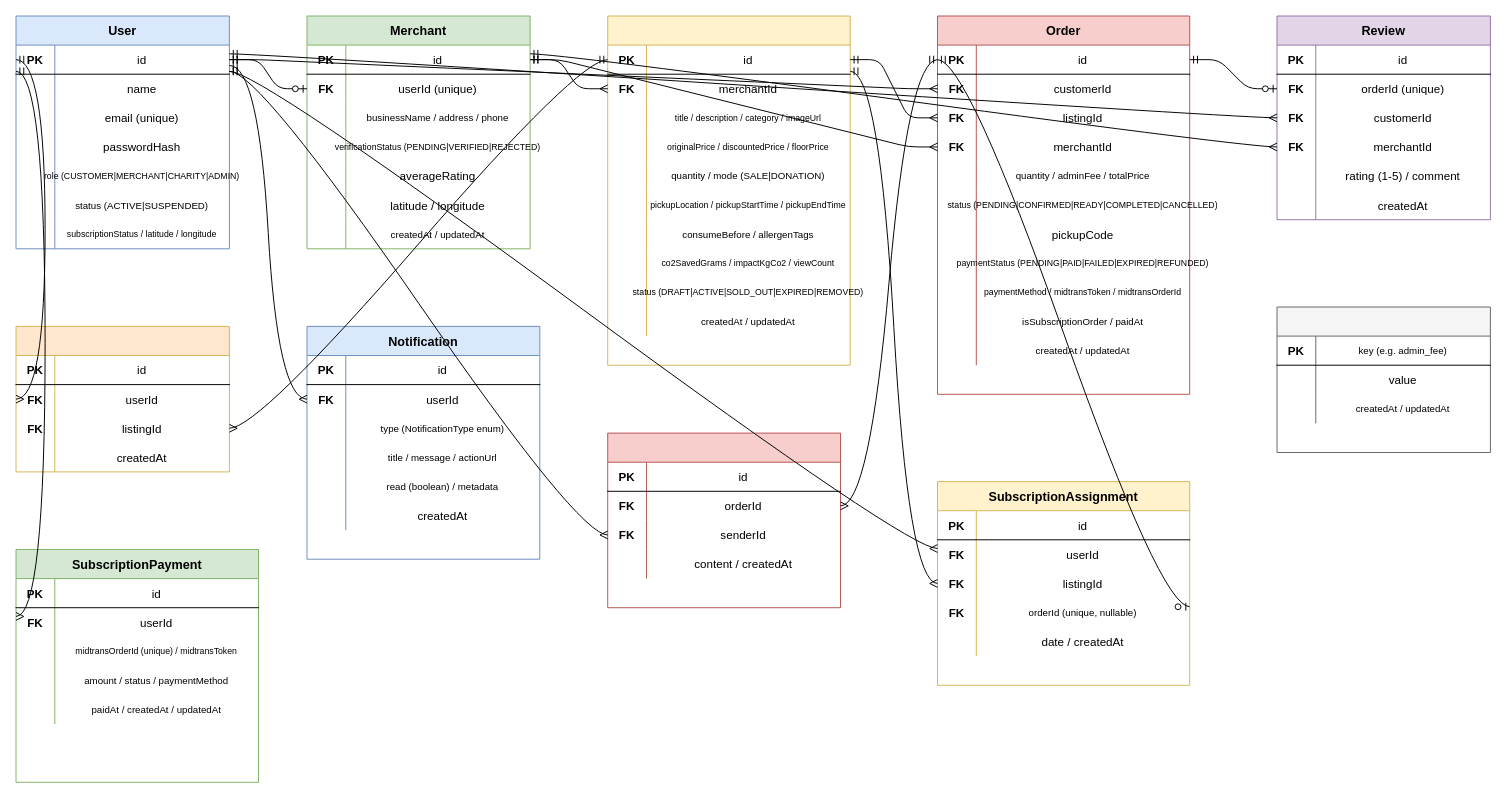
Image size: 1506x798. Some labels were removed from this diagram. Each missing label, with the box of its shape:
AppSetting: (1276, 306, 1490, 453)
FoodListing: (607, 15, 850, 365)
Message: (607, 432, 841, 608)
Wishlist: (15, 325, 229, 472)
